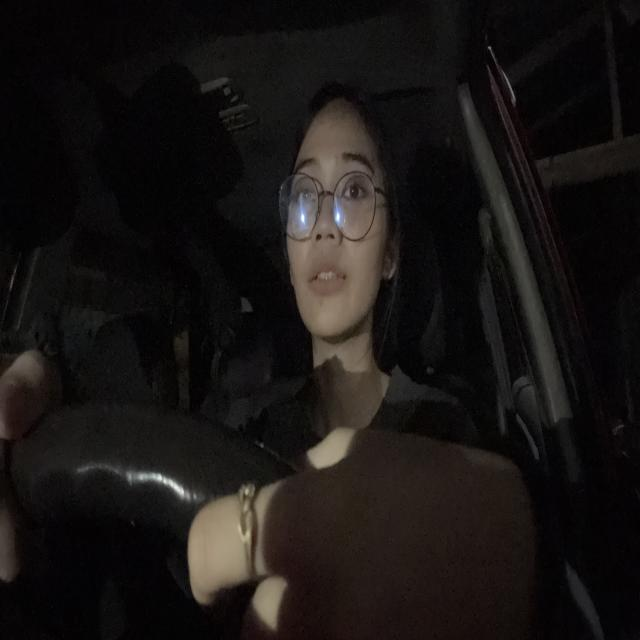open: (334, 150, 376, 208), (292, 148, 322, 219)
